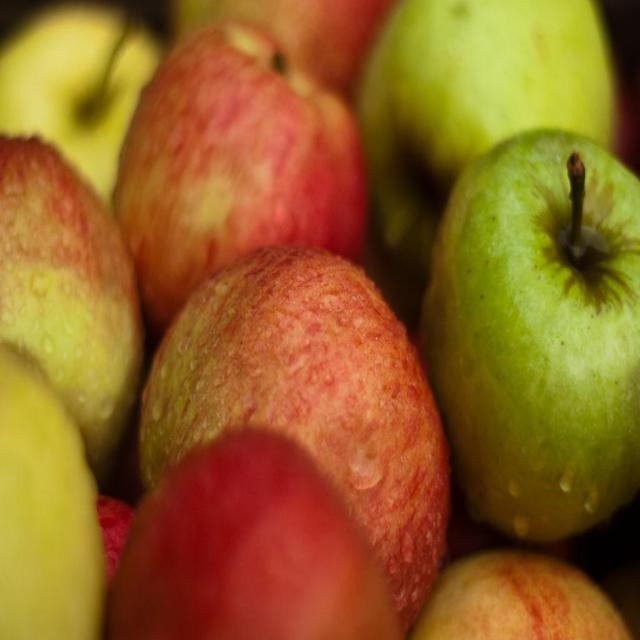Healty Apple: (2, 0, 639, 639), (421, 131, 640, 559)
